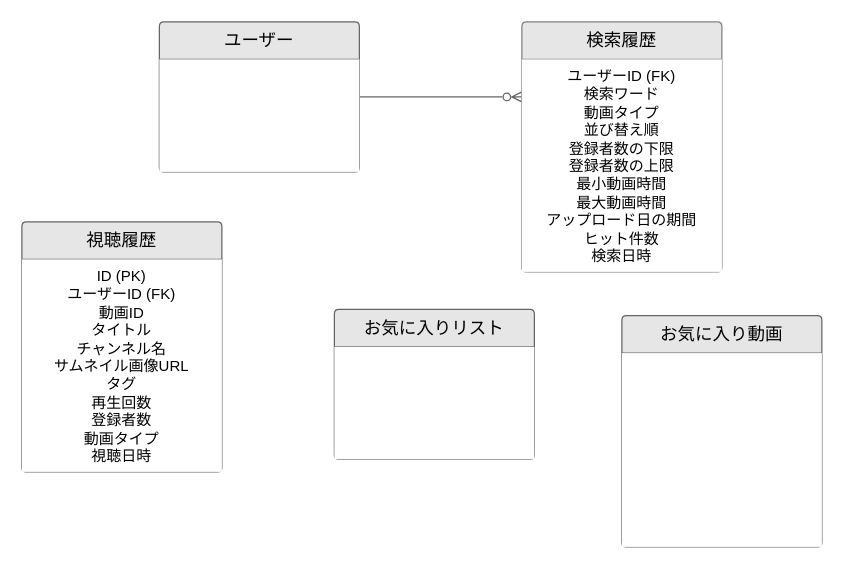
The diagram is 844 pixels wide and 569 high, and some of its shapes have lost their labels. Each missing label, with the centre of its shape:
"ID (PK) お気に入りリストID (FK) 動画ID タイトル チャンネル名 サムネイル画像URL 再生回数 動画タイプ 投稿日時 お気に入り追加日時" belongs at point 721,449.
"ID (PK) ユーザーID (FK) 名前 番号" belongs at point 434,402.
"ID (PK) ユーザー名 メールアドレス パスワード 最終ログイン日" belongs at point 259,115.
